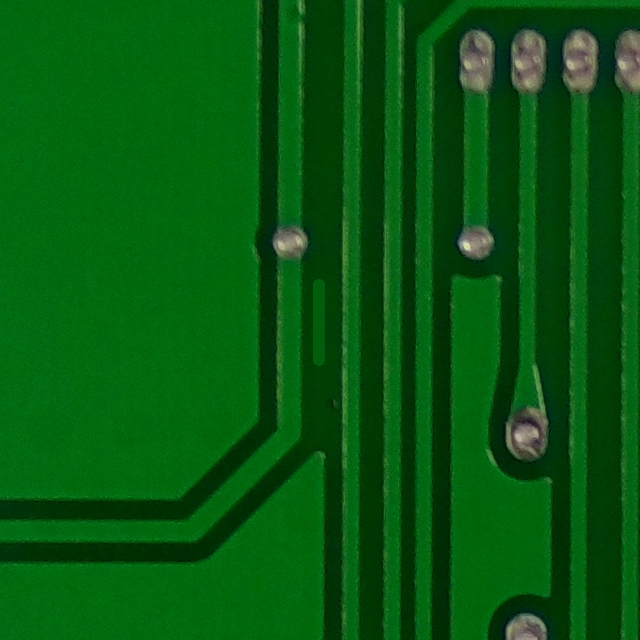spurious_copper: (289, 268, 352, 372)
